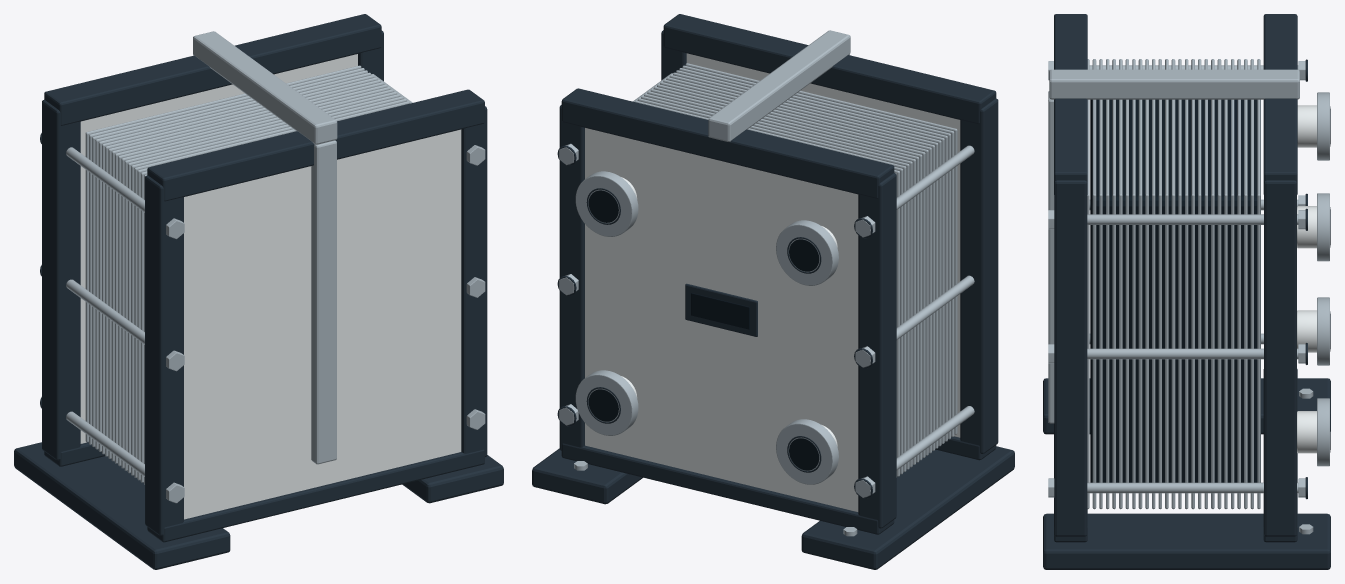
Rendered from exchanger.glb.
3 renders of one model, left to right at view 1: azimuth 30°, elevation 25°; view 2: azimuth 150°, elevation 25°; view 3: azimuth 270°, elevation 25°, orthographic. The views are drawn at different scales.
Visible parts, largest first — view 1: exchanger_paint, exchanger_graphite, exchanger_silver; view 2: exchanger_graphite, exchanger_paint, exchanger_silver, exchanger_insert; view 3: exchanger_silver, exchanger_graphite, exchanger_insert, exchanger_paint.
Boxes of the visible parts, box(x1,y1,x2,y2) form: exchanger_paint: box(80, 54, 461, 519); exchanger_graphite: box(14, 14, 503, 569); exchanger_silver: box(66, 31, 485, 503); exchanger_graphite: box(532, 14, 1014, 569); exchanger_paint: box(585, 53, 960, 511); exchanger_silver: box(559, 30, 974, 536); exchanger_insert: box(588, 190, 819, 470); exchanger_silver: box(1048, 59, 1329, 534); exchanger_graphite: box(1043, 14, 1330, 569); exchanger_insert: box(1090, 99, 1330, 482); exchanger_paint: box(1297, 105, 1316, 453).
Size of the model in its own units: 2 by 2.2 by 1.4.
